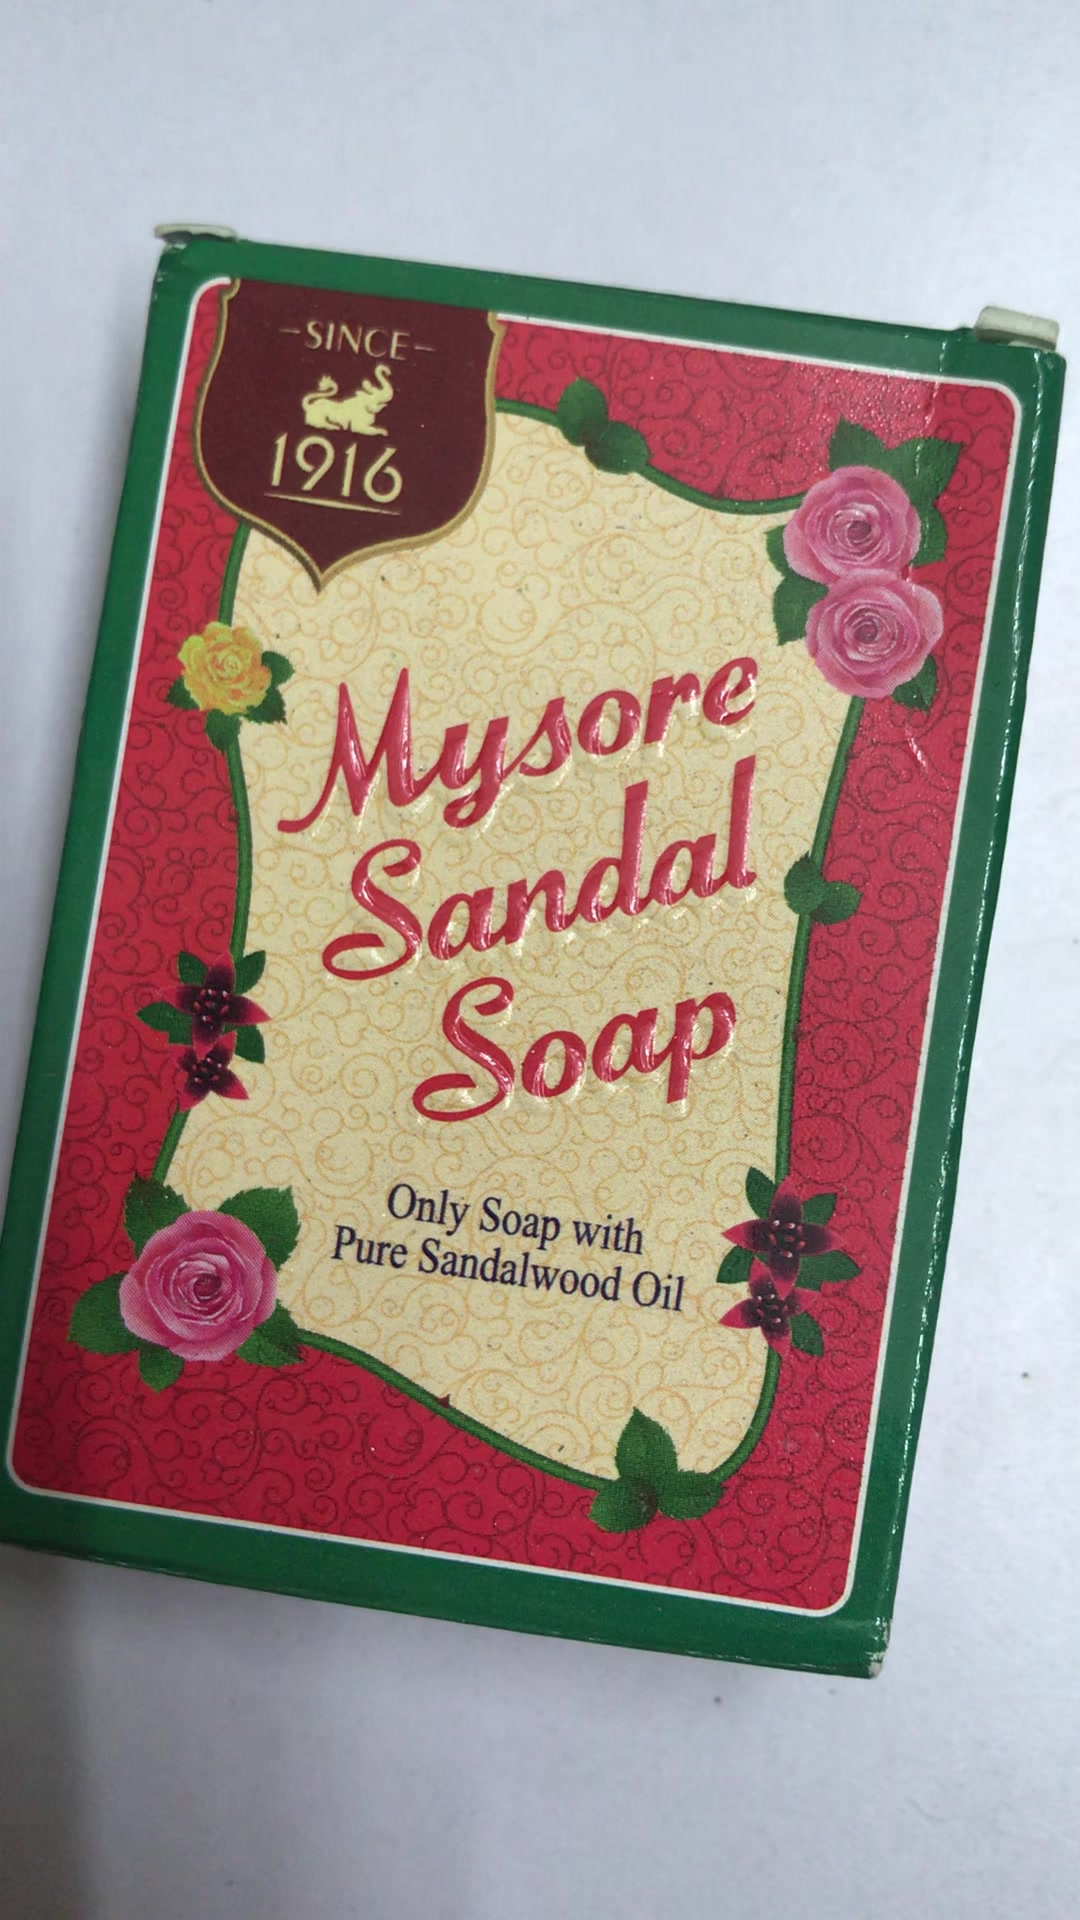mysore sandal soap: (1, 225, 1069, 1683)
